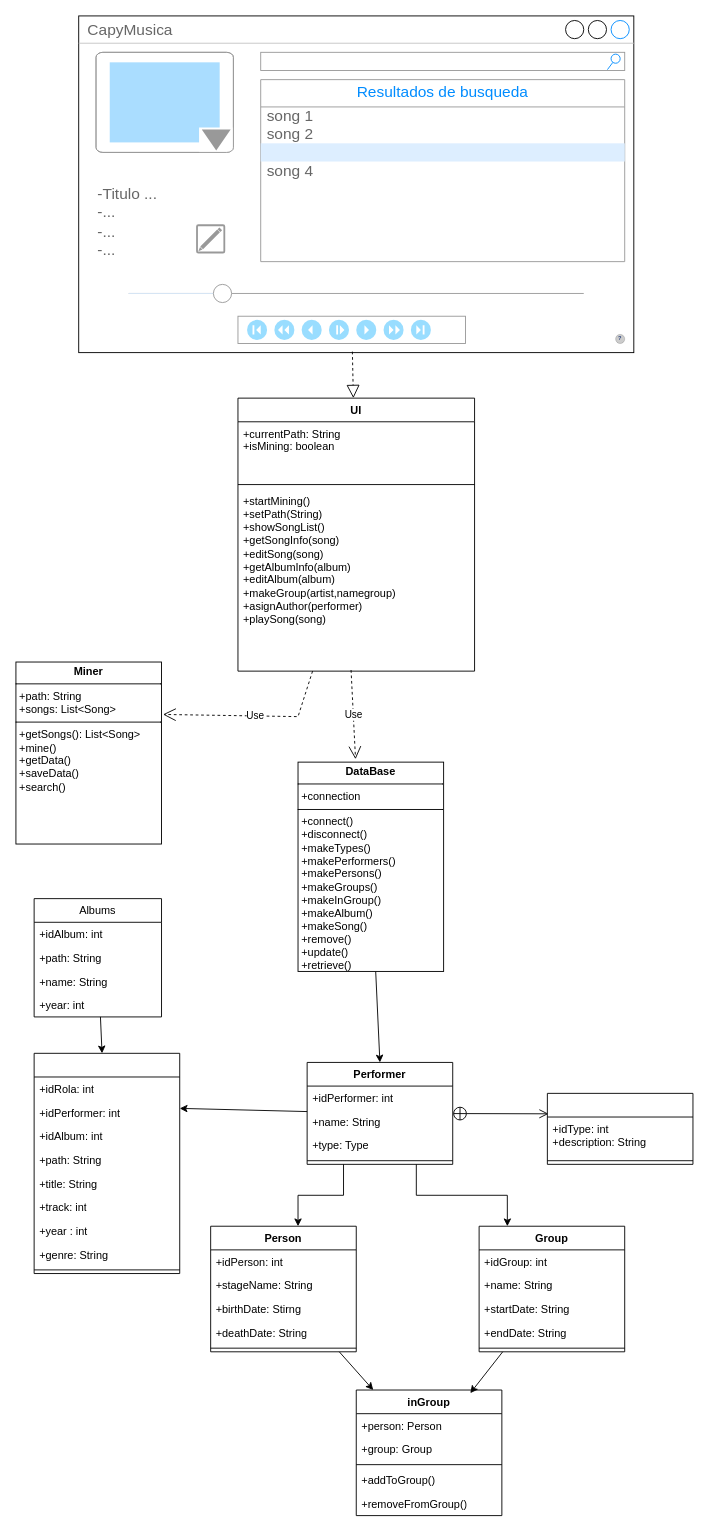
The diagram is 709 pixels wide and 1534 high, and some of its shapes have lost their labels. The box of each missing label's shape, as (x1, y1, x2, y2) in pixels:
imagen de la canción: (95, 51, 233, 152)
Search: (260, 51, 625, 71)
song 3: (260, 143, 624, 161)
Songs: (33, 1052, 180, 1274)
Types: (546, 1092, 693, 1164)
